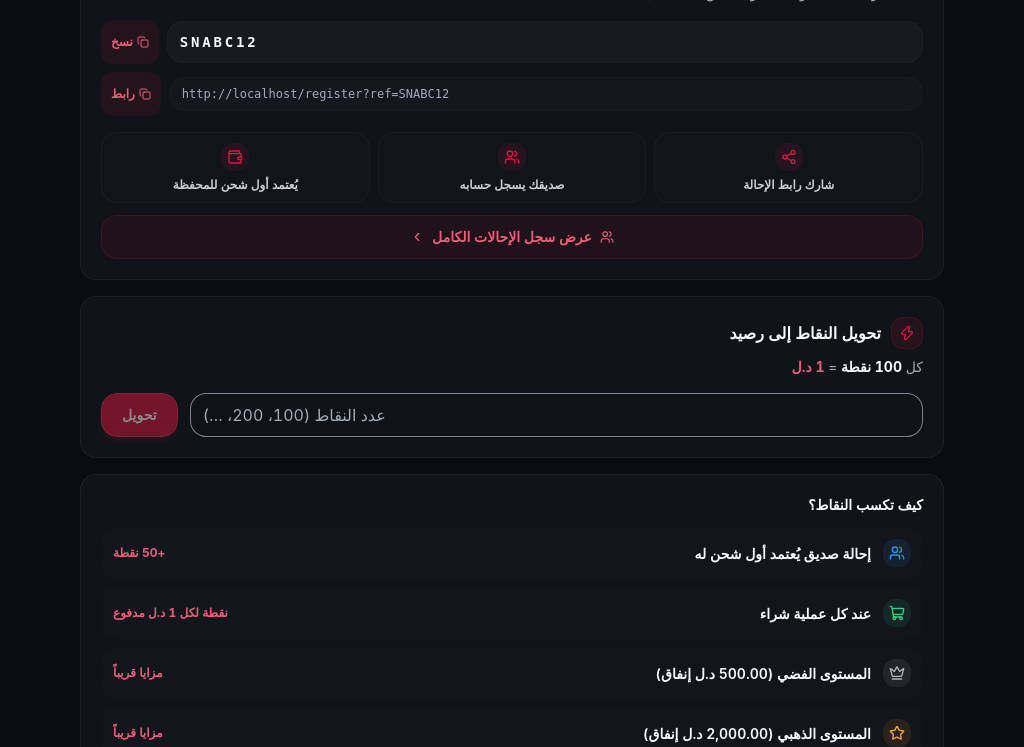
Test: LoyaltyPage — load failures are distinct from empty data (B4 P1-3) › shows a persistent inline alert when points conversion fails (B4 P1-7)
(page scrolled)
Type "500" into the field with placeholder "عدد النقاط (100، 200، …)" at (556, 415), box [190,393,923,437]
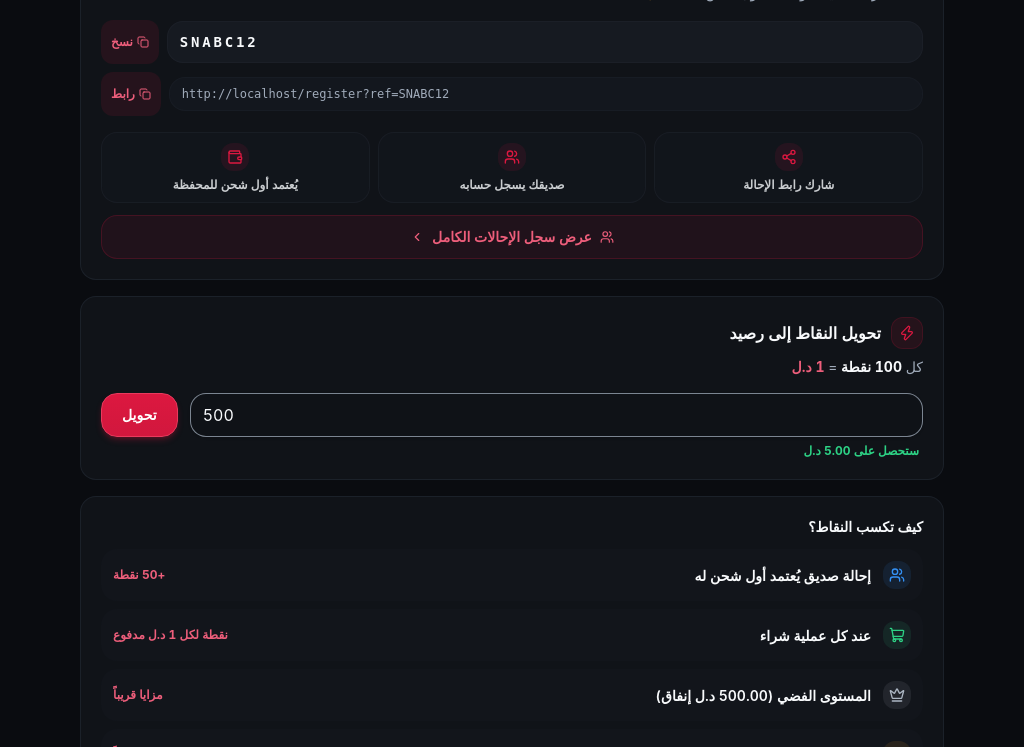
Click the button "تحويل" at (139, 415), box [101,393,178,437]
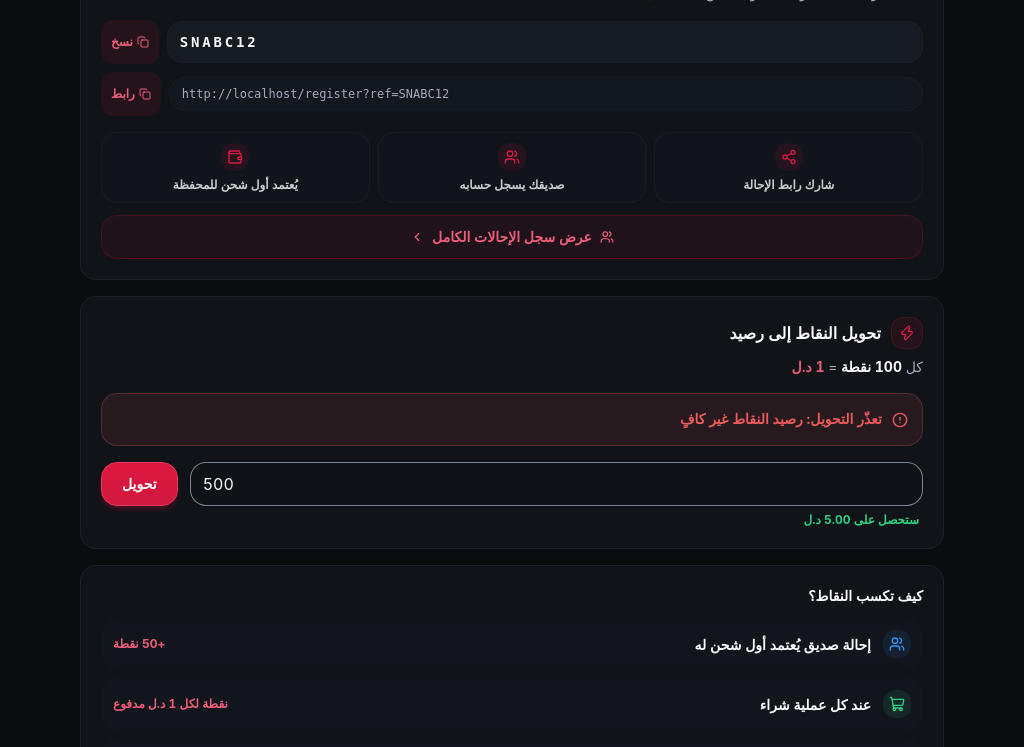
expect the message shows "رصيد النقاط غير كافٍ": met, box [680,410,803,427]
expect the message "تعذّر التحويل: رصيد النقاط غير كافٍ" is shown: met, box [101,393,923,446]
